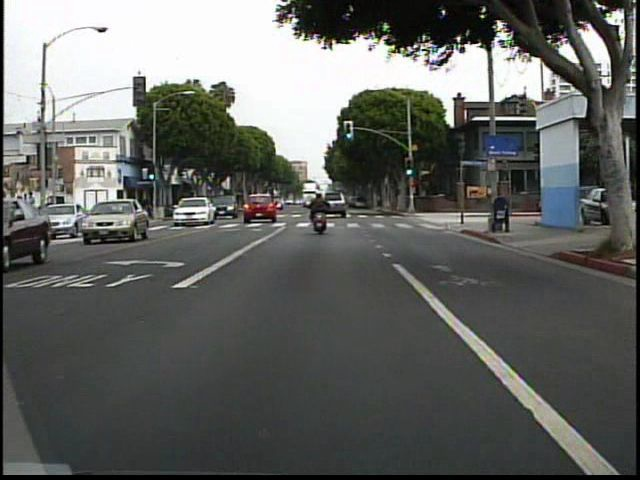person: (307, 185, 337, 243)
